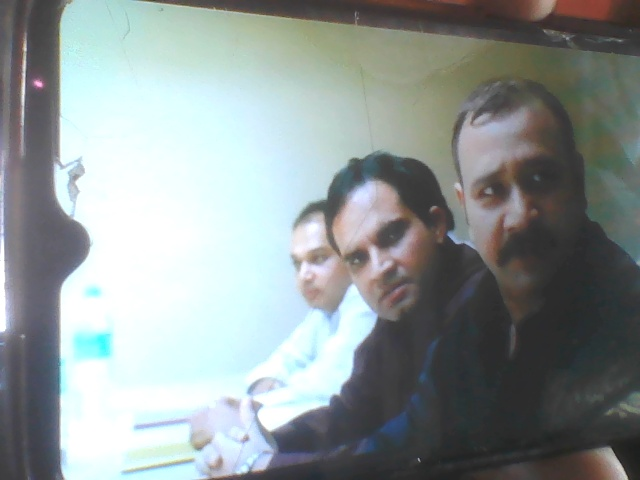fake: (443, 63, 608, 297), (323, 144, 456, 332)
